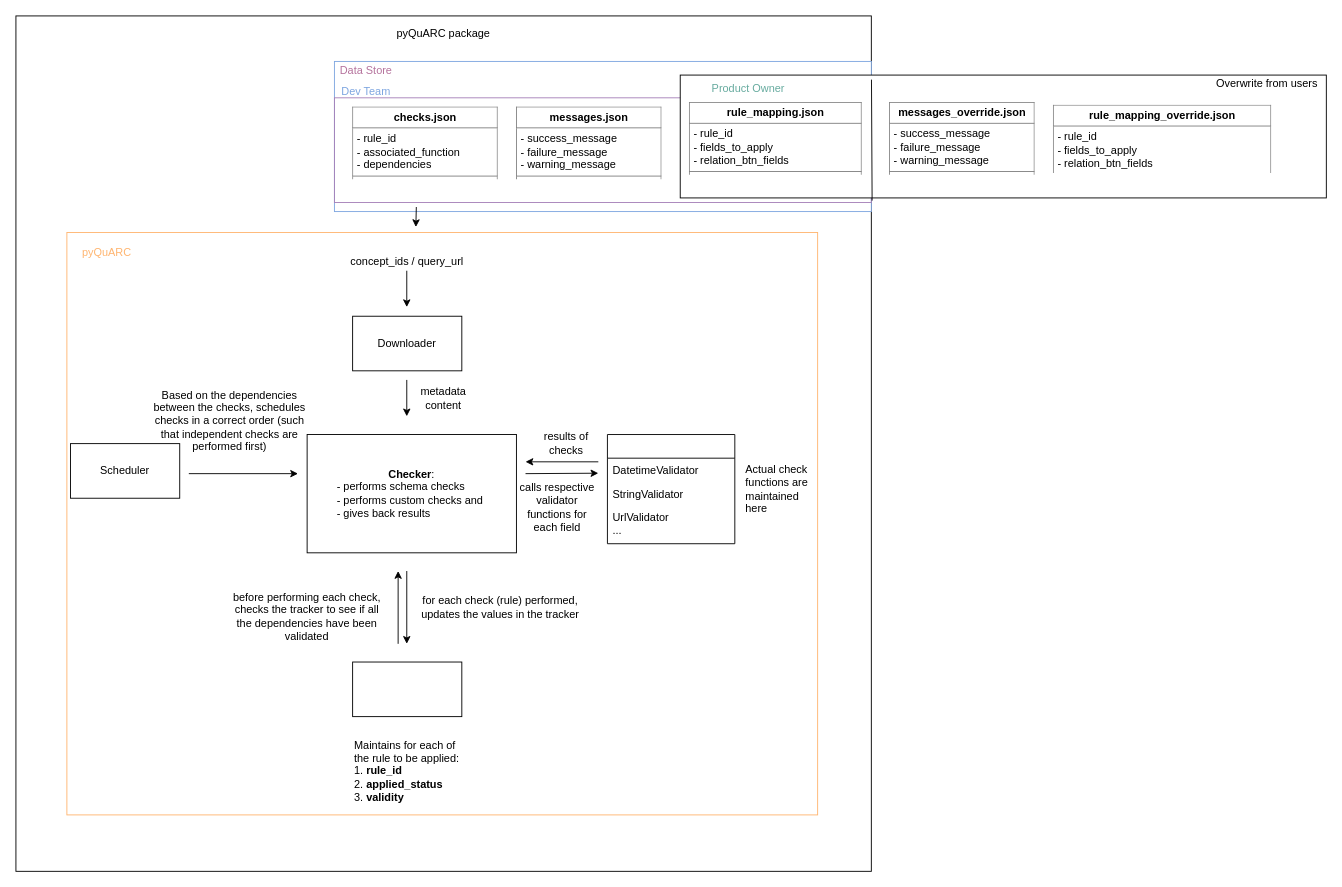
This 1342x887 diagram has some shape labels left out. The box of each missing label's shape, as (x1, y1, x2, y2) in pixels:
Tracker: (352, 661, 462, 717)
Validators: (607, 434, 735, 544)
